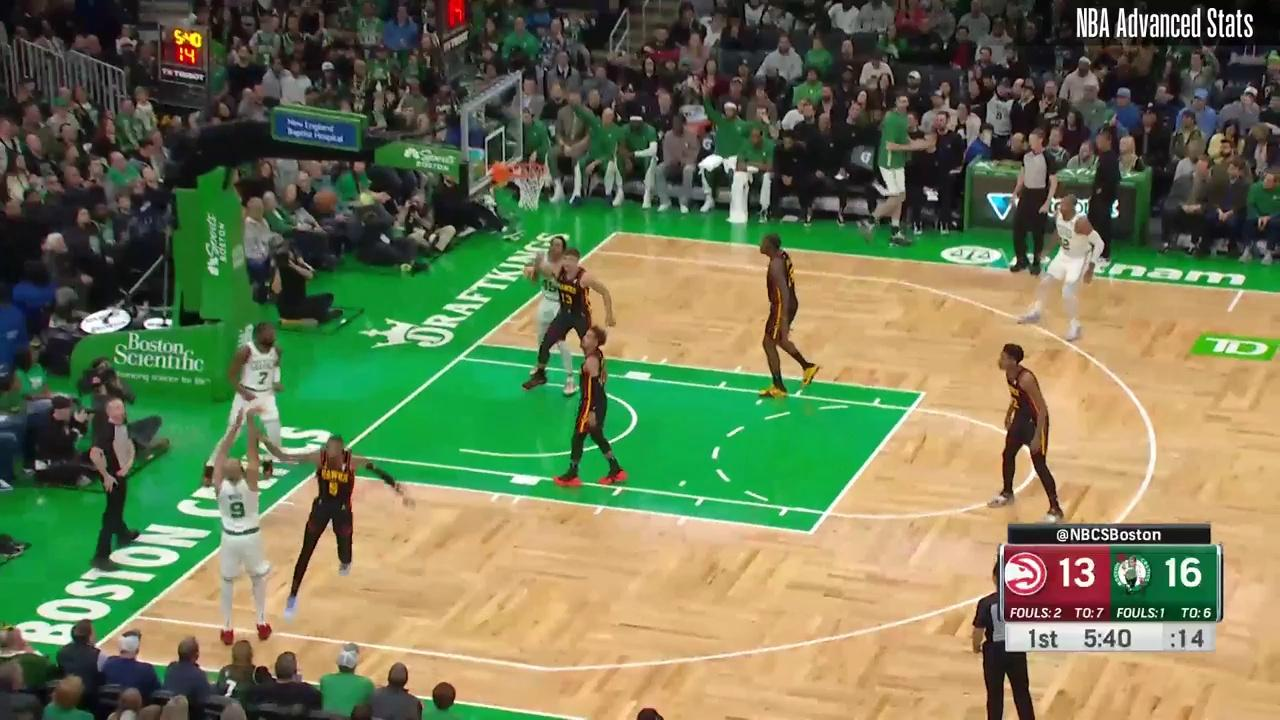3_dx: (591, 248, 596, 253)
3_sx: (131, 613, 139, 619)
b_dx: (613, 230, 619, 235)
free_adx: (920, 389, 928, 397)
free_asx: (807, 529, 816, 536)
free_bdx: (475, 340, 481, 347)
mid_dx: (1226, 309, 1232, 314)
referee: (972, 559, 1036, 720), (89, 398, 140, 570), (1008, 129, 1058, 274)
team: (987, 343, 1066, 524), (214, 406, 271, 644), (201, 322, 283, 487), (1015, 194, 1106, 340), (526, 235, 576, 397)
team1: (255, 429, 418, 618), (522, 249, 614, 392), (552, 326, 626, 488), (756, 232, 821, 399)
timer: (1077, 623, 1146, 650)
